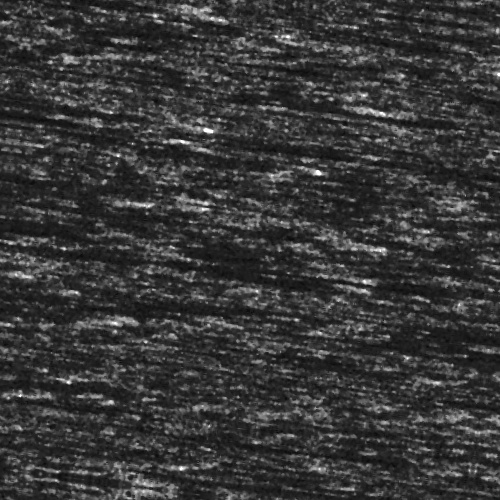object: (282, 267, 417, 278), (298, 224, 391, 233), (150, 124, 203, 137), (144, 142, 175, 155), (318, 89, 349, 98), (437, 438, 490, 443), (481, 243, 500, 248), (198, 469, 229, 472)
shadow: (29, 267, 349, 278), (0, 89, 333, 98), (379, 290, 500, 311), (0, 124, 177, 137), (77, 142, 159, 155), (290, 479, 500, 484), (302, 438, 463, 443), (265, 224, 344, 233), (360, 243, 500, 248), (440, 61, 500, 70), (128, 469, 213, 472)
